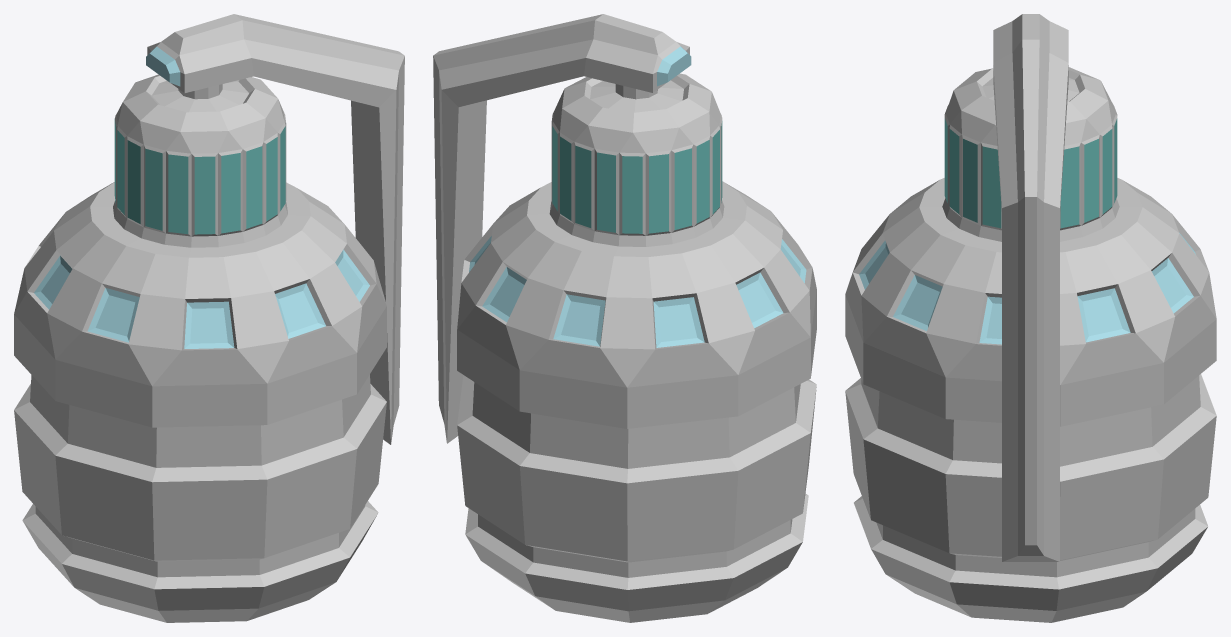
The model's file is SM_Sci_FiWeapon_Bomb.fbx.
3 views of the same model, side by side, from view 1: azimuth 30°, elevation 25°; view 2: azimuth 150°, elevation 25°; view 3: azimuth 270°, elevation 25° (orthographic).
Parts seen in each view (by area): view 1: SM_Sci_FiWeapon_Bomb; view 2: SM_Sci_FiWeapon_Bomb; view 3: SM_Sci_FiWeapon_Bomb.
Boxes of the visible parts, x1,y1,x2,y2 form: SM_Sci_FiWeapon_Bomb: (14, 14, 404, 622); SM_Sci_FiWeapon_Bomb: (433, 14, 816, 622); SM_Sci_FiWeapon_Bomb: (845, 14, 1216, 622).
Size of the model in its own units: 12.98 by 19.35 by 11.48.
